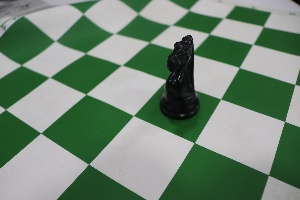black_horse: (159, 21, 208, 127)
